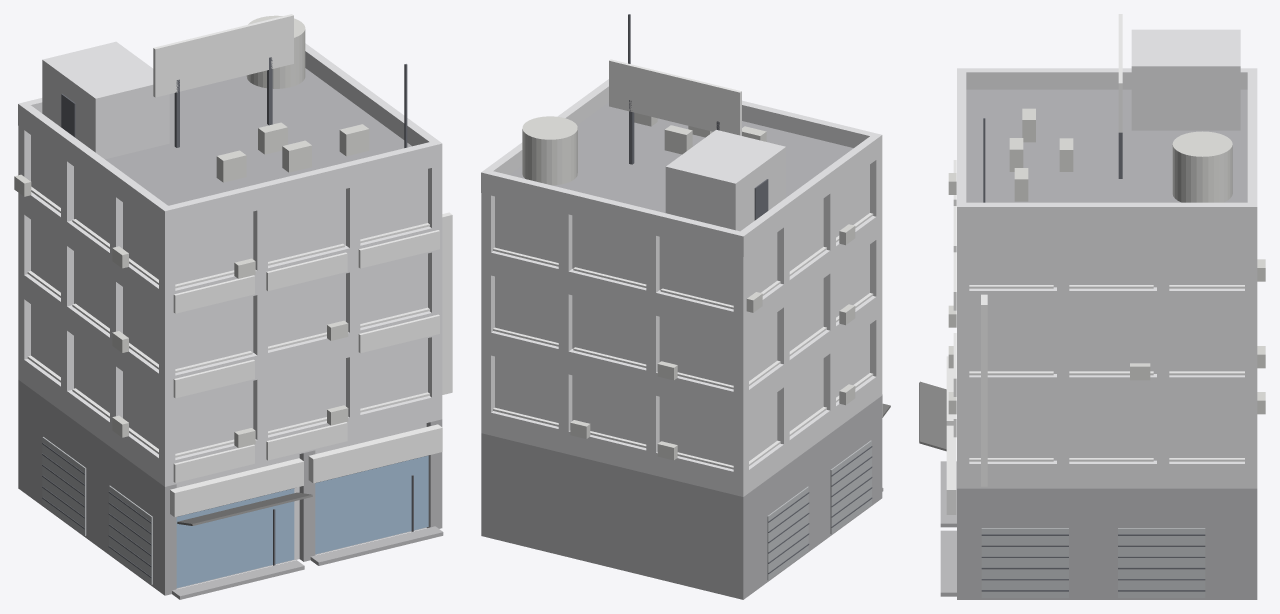
The model's file is bldg_6.glb.
The picture shows the model from 3 angles, left to right: view 1: azimuth 30°, elevation 25°; view 2: azimuth 150°, elevation 25°; view 3: azimuth 270°, elevation 25°; orthographic projection. The views are drawn at different scales.
Visible parts, largest first — view 1: building; view 2: building; view 3: building.
Boxes of the visible parts, left/top/right/bottom form: building: left=14, top=14, right=452, bottom=599; building: left=481, top=14, right=890, bottom=599; building: left=919, top=14, right=1265, bottom=599.
Bounding box in the file's own units: 13.26 × 19.5 × 12.69.
